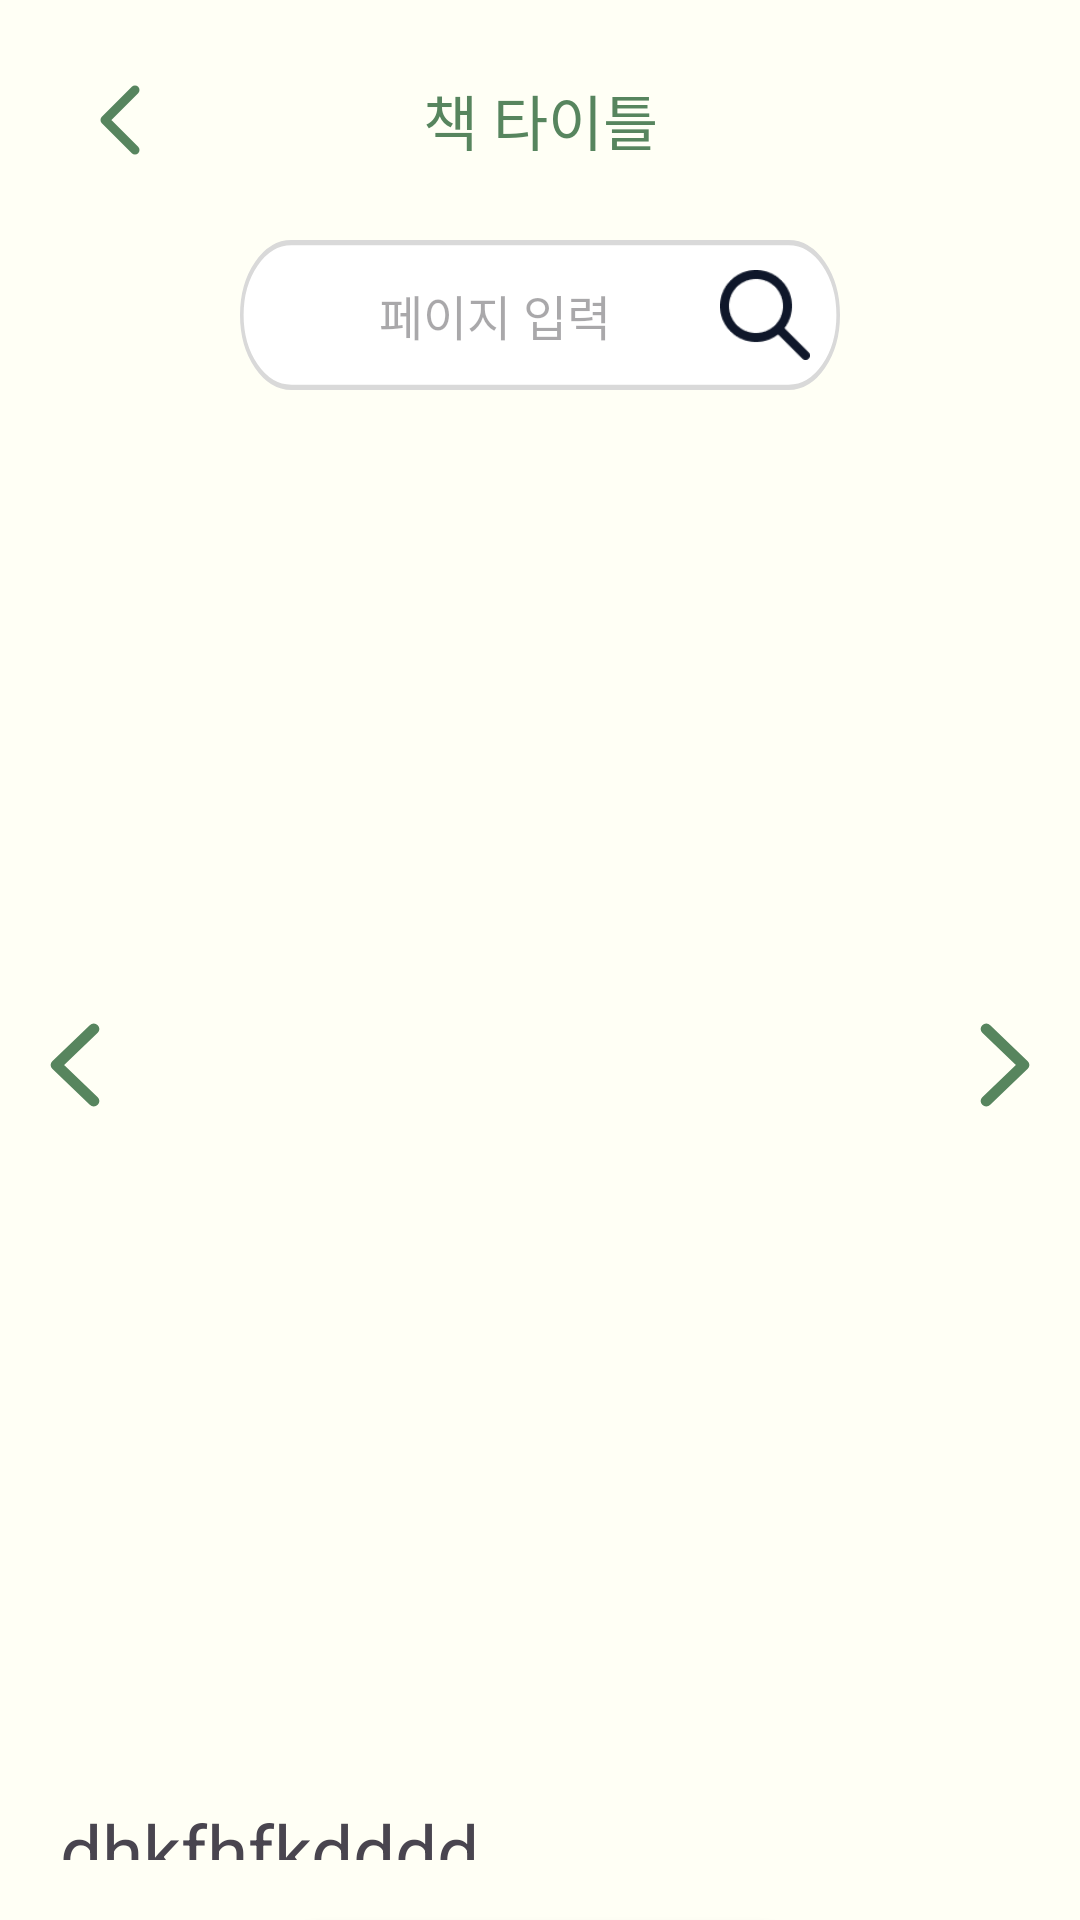

Where to tap for icons on this 1080 × 1920 app screen, as (x=x, y=y):
search: (x=765, y=315)
